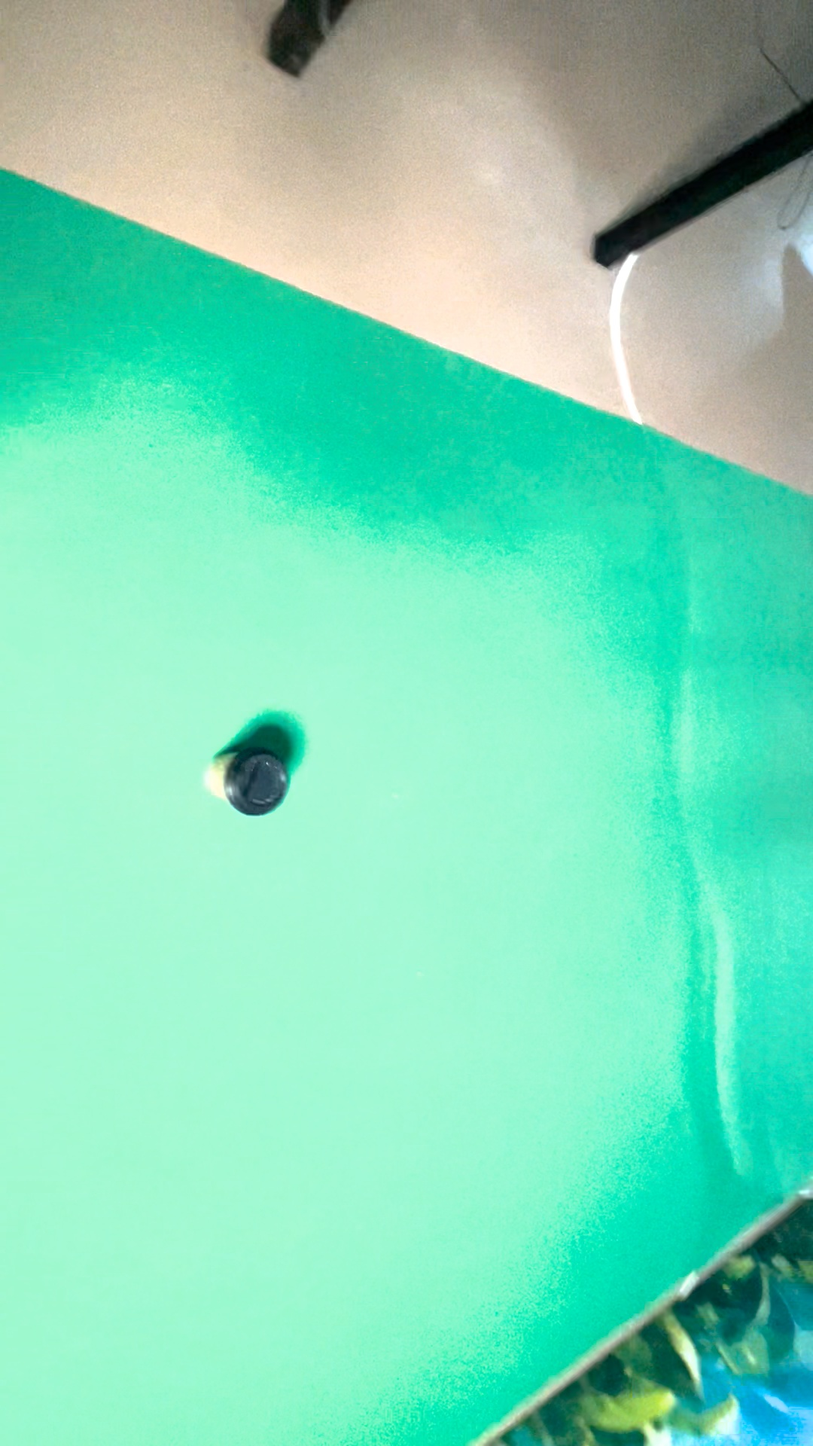cup: (445, 571, 529, 983)
